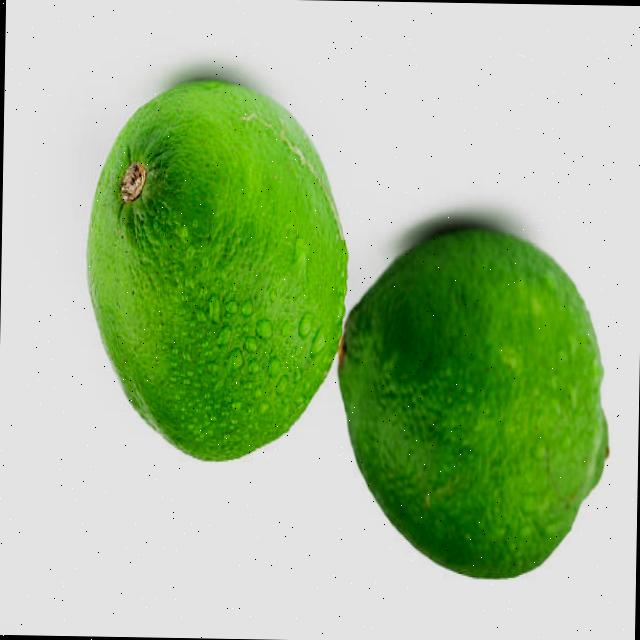Unripe: (80, 76, 354, 467), (334, 223, 614, 582)
